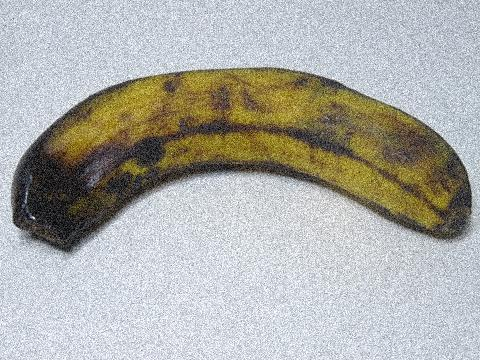overripe: (5, 54, 472, 273)
rotten: (8, 131, 117, 254)
